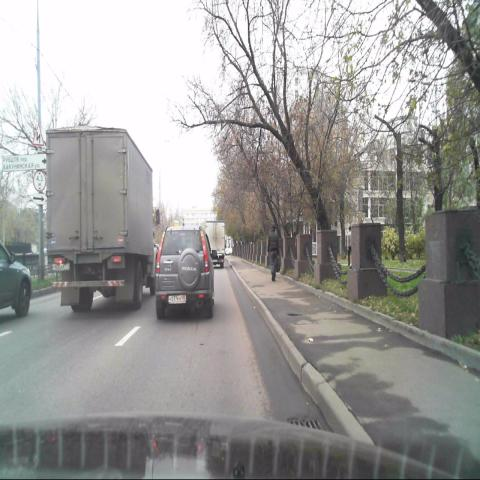1_12_2: (31, 123, 45, 146)
3_13: (33, 171, 47, 191)
8_3_1: (33, 194, 46, 205)
